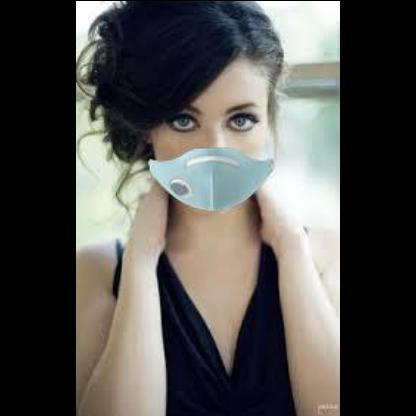FFP Mask: (95, 7, 300, 217)
